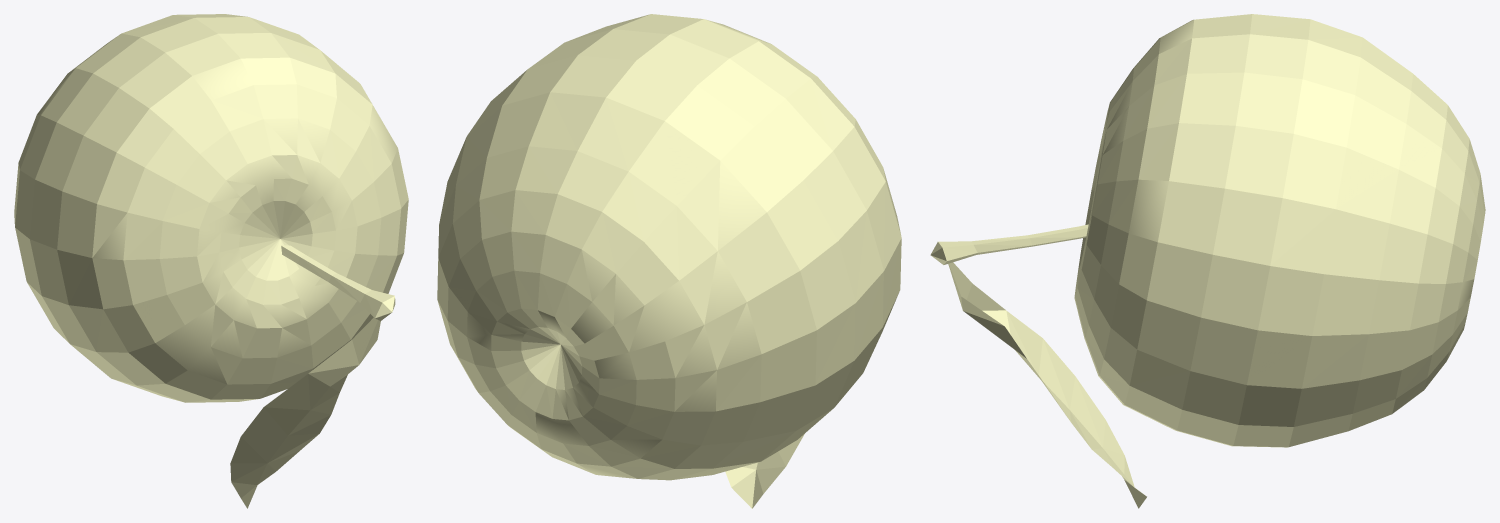
Rendered from apple1_3.dae.
The picture shows the model from 3 angles, left to right: view 1: azimuth 30°, elevation 25°; view 2: azimuth 150°, elevation 25°; view 3: azimuth 270°, elevation 25°; orthographic projection. The views are drawn at different scales.
Parts seen in each view (by area): view 1: M002004_019; view 2: M002004_019; view 3: M002004_019.
Part boxes in pixels (x1=…): M002004_019: x1=14, y1=14, x2=408, y2=508; M002004_019: x1=437, y1=14, x2=901, y2=508; M002004_019: x1=930, y1=14, x2=1485, y2=508.
Size of the model in its own units: 0.1 by 0.1266 by 0.1222.
